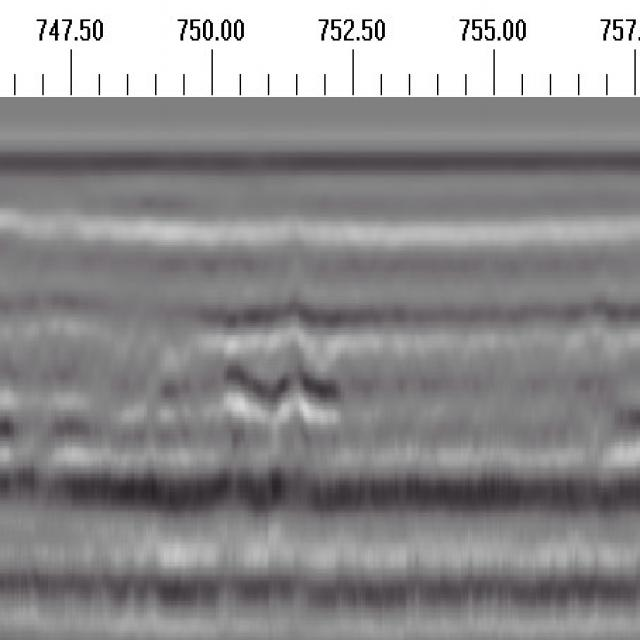loose: (207, 299, 358, 424)
